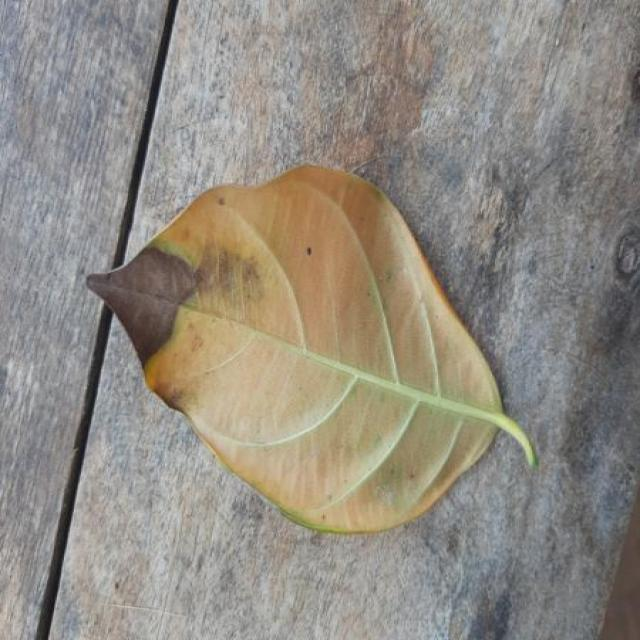dieback: (88, 166, 538, 532), (88, 166, 537, 532)
